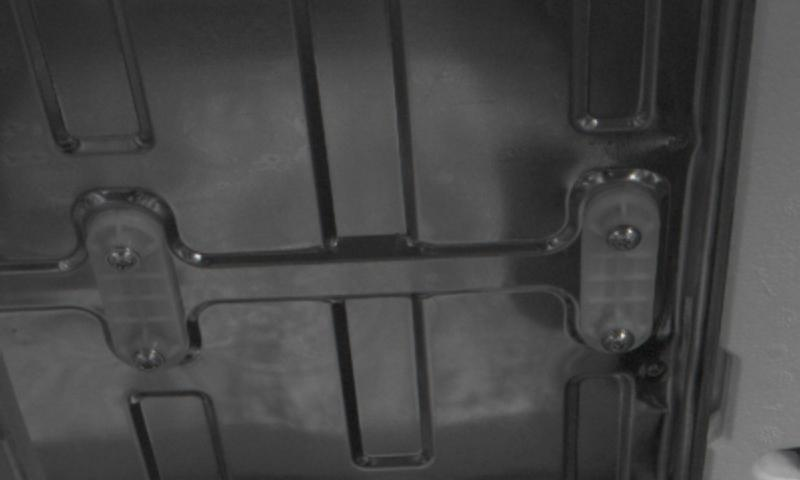vida-ok: (605, 219, 649, 258), (106, 241, 145, 280), (601, 321, 640, 360), (130, 341, 167, 376)
